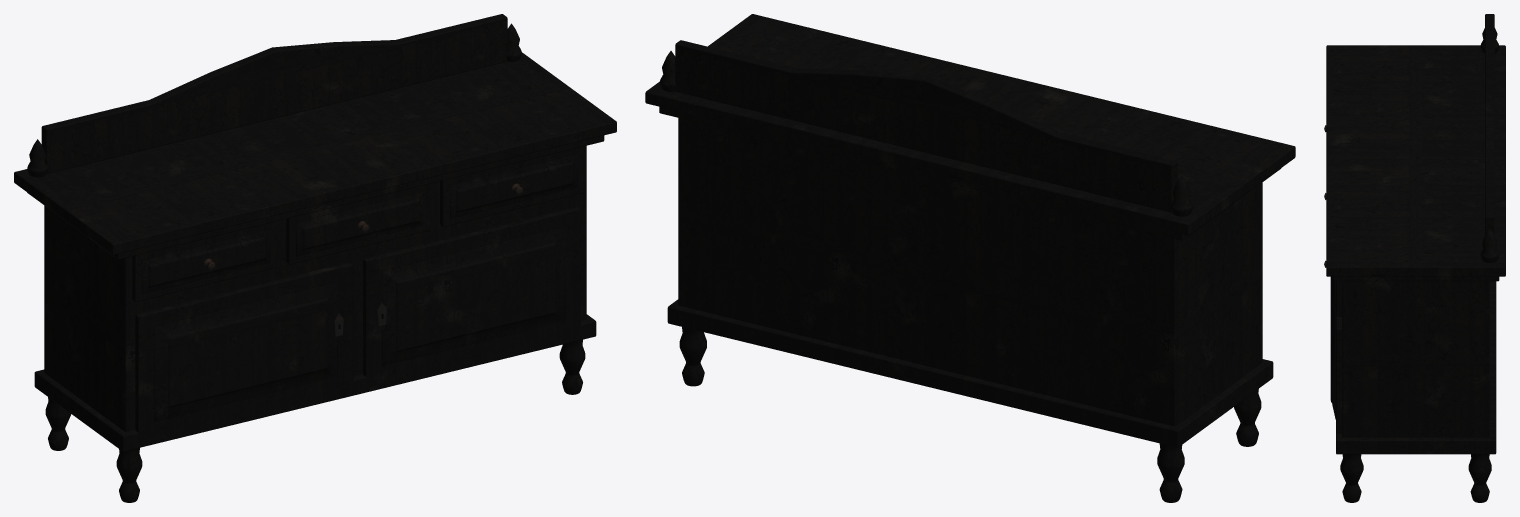
Rendered from Sideboard_Burned.gltf.
The picture shows the model from 3 angles, left to right: view 1: azimuth 30°, elevation 25°; view 2: azimuth 150°, elevation 25°; view 3: azimuth 270°, elevation 25°; orthographic projection. The views are drawn at different scales.
Parts seen in each view (by area): view 1: Sideboard_Burned_Body, Sideboard_Burned_Brass; view 2: Sideboard_Burned_Body; view 3: Sideboard_Burned_Body.
Boxes of the visible parts, bbox=[...] form: Sideboard_Burned_Body: bbox=[14, 14, 616, 502]; Sideboard_Burned_Brass: bbox=[204, 183, 522, 336]; Sideboard_Burned_Body: bbox=[645, 14, 1295, 502]; Sideboard_Burned_Body: bbox=[1326, 14, 1505, 502].
Size of what is drawn, in the model's own units: 1.64 by 1.06 by 0.567.
Materials: 3 (2 with a texture image).
